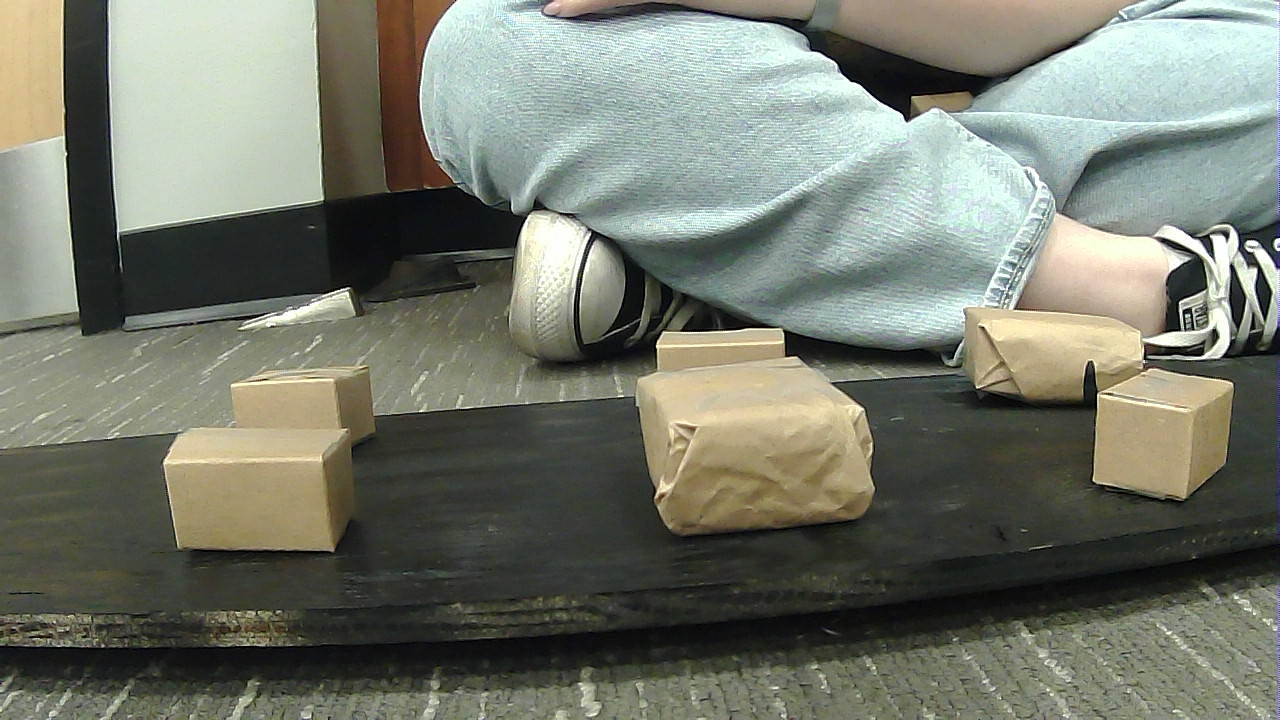package: (615, 378, 880, 533), (159, 423, 368, 566), (1086, 362, 1255, 531), (948, 291, 1165, 413), (623, 299, 827, 400), (232, 359, 411, 447)
